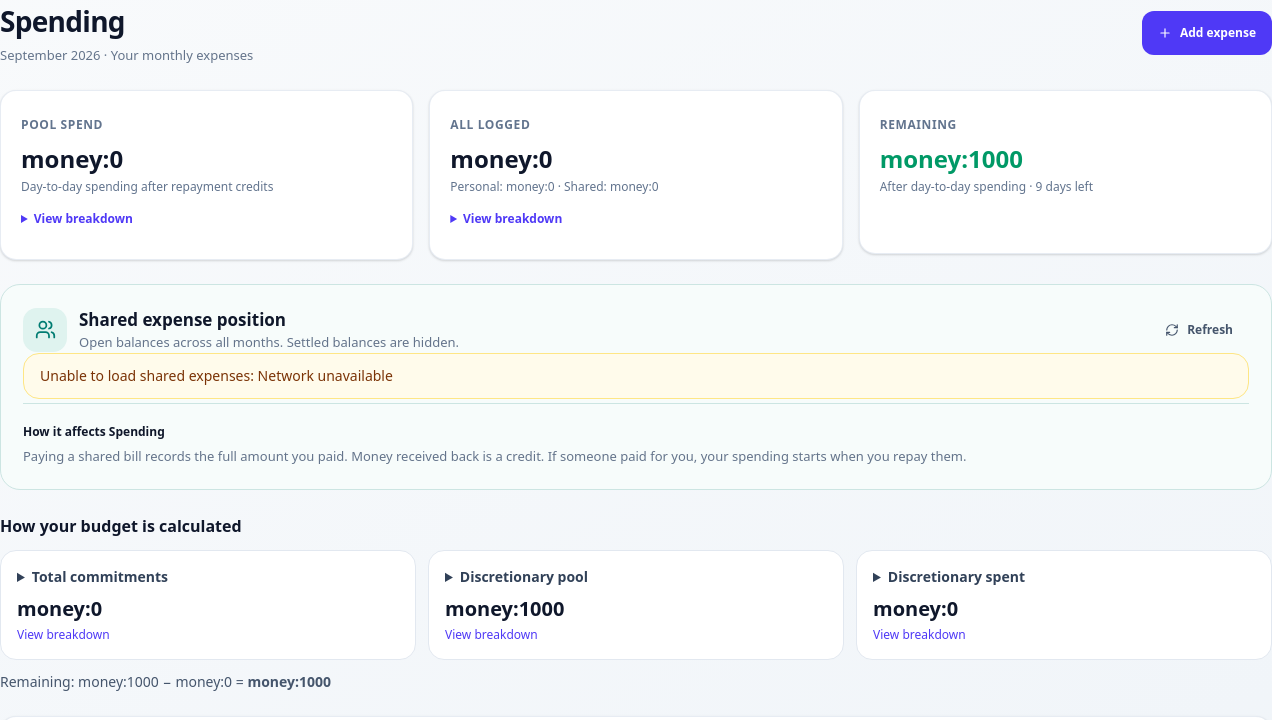
Scenario: Spending regressions › shows API errors while keeping personal spending usable
Expected: the text "Unable to load shared expenses: Network unavailable" is shown, [40,366,393,385]
What coordinates should you click on to do the following:
click the button "Add expense"
I would click on:
 (1207, 33)
Its box is [1142,11,1272,55].
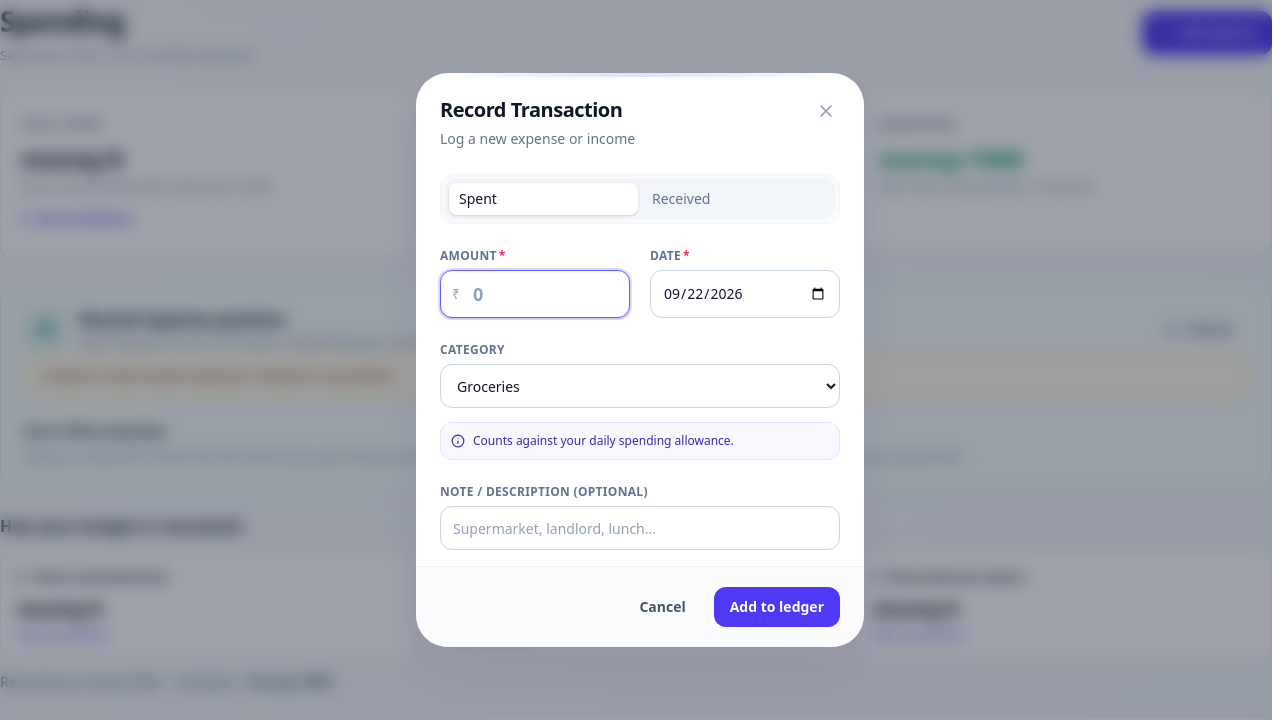
Expected: the dialog "Record Transaction" is shown, [416,73,864,647]
